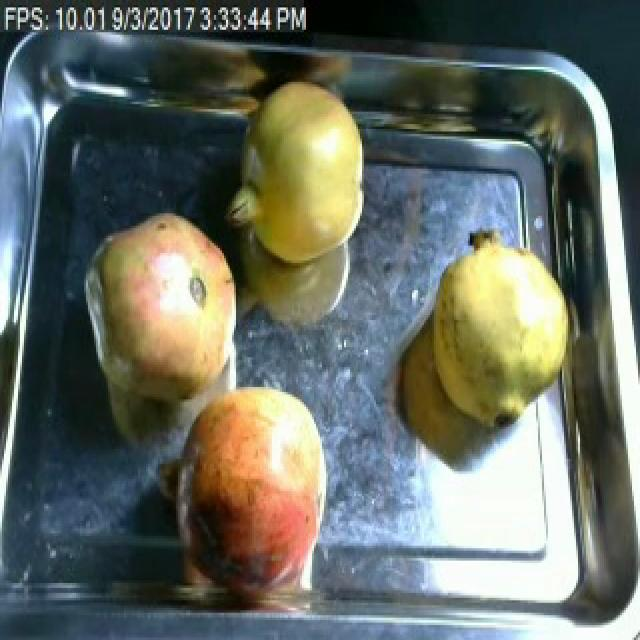fruit: (76, 201, 254, 422), (168, 370, 338, 600), (424, 226, 578, 437), (228, 72, 372, 275)
